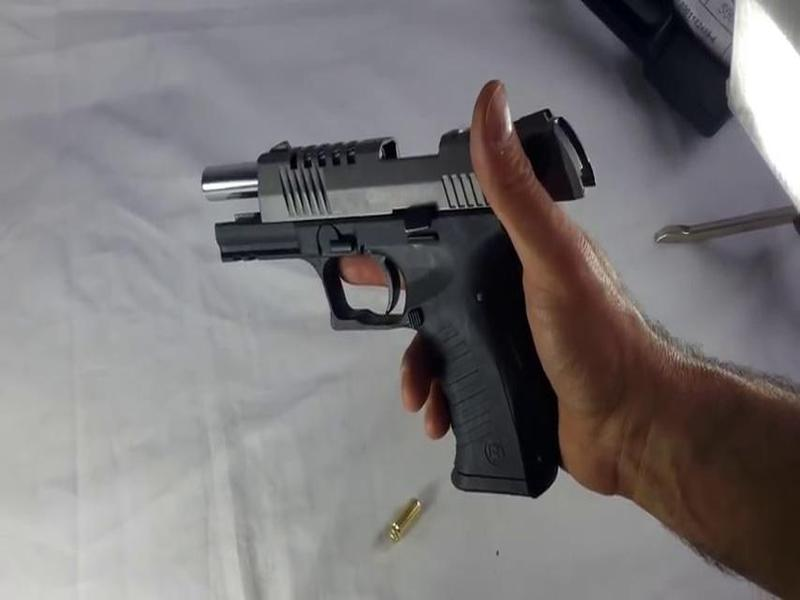Pistola: (184, 87, 640, 527)
